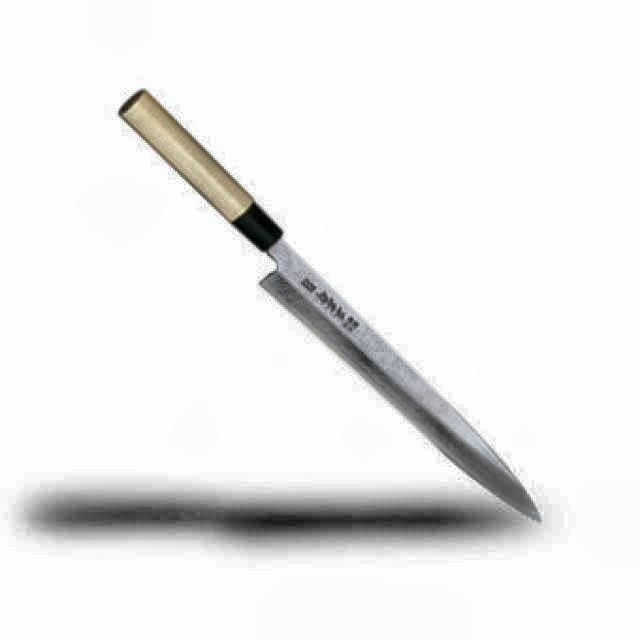knife: (116, 84, 546, 522)
